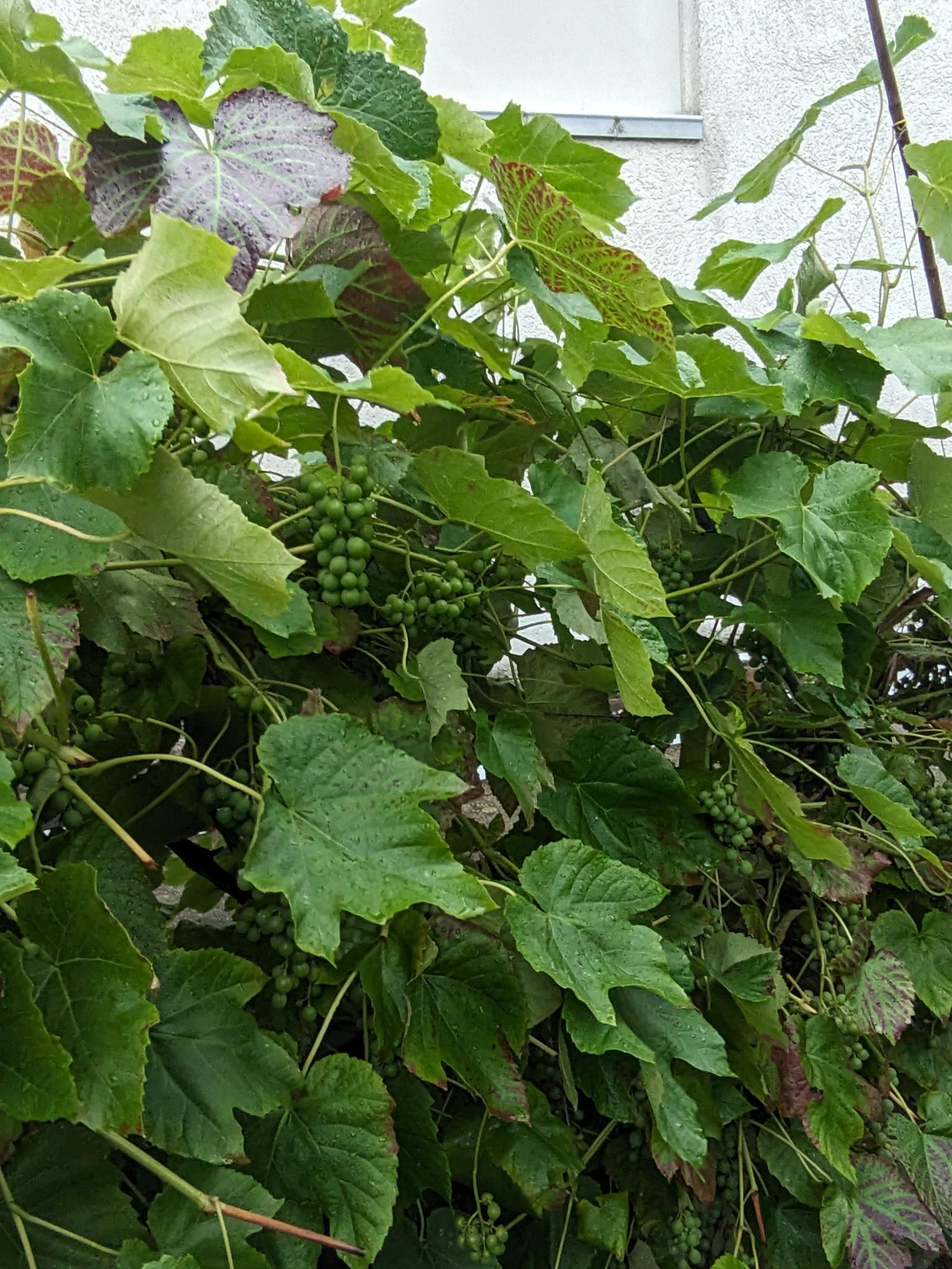Grape Unripe: (799, 989, 900, 1150), (380, 550, 523, 661), (6, 694, 119, 826), (234, 875, 329, 1024), (295, 460, 377, 607), (529, 1021, 584, 1128), (700, 777, 759, 875), (164, 405, 235, 484), (200, 763, 266, 838), (351, 985, 404, 1077), (736, 627, 786, 713), (452, 1194, 511, 1263), (802, 903, 871, 959), (651, 542, 694, 621), (628, 1082, 657, 1163), (916, 779, 952, 840), (670, 1210, 706, 1269)
